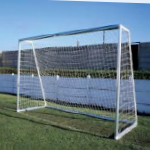goals: (14, 22, 138, 142)
